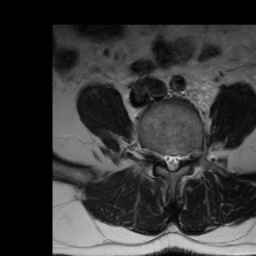CCS_stenosis: (168, 149, 175, 177)
LFS_stenosis: (180, 144, 189, 169)
LLS_severe_stenosis: (175, 147, 181, 171)
RFS_normal: (154, 143, 162, 169)
RLS_stenosis: (162, 146, 168, 171)
